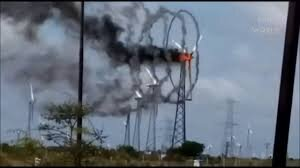faulty: (92, 10, 200, 102)
